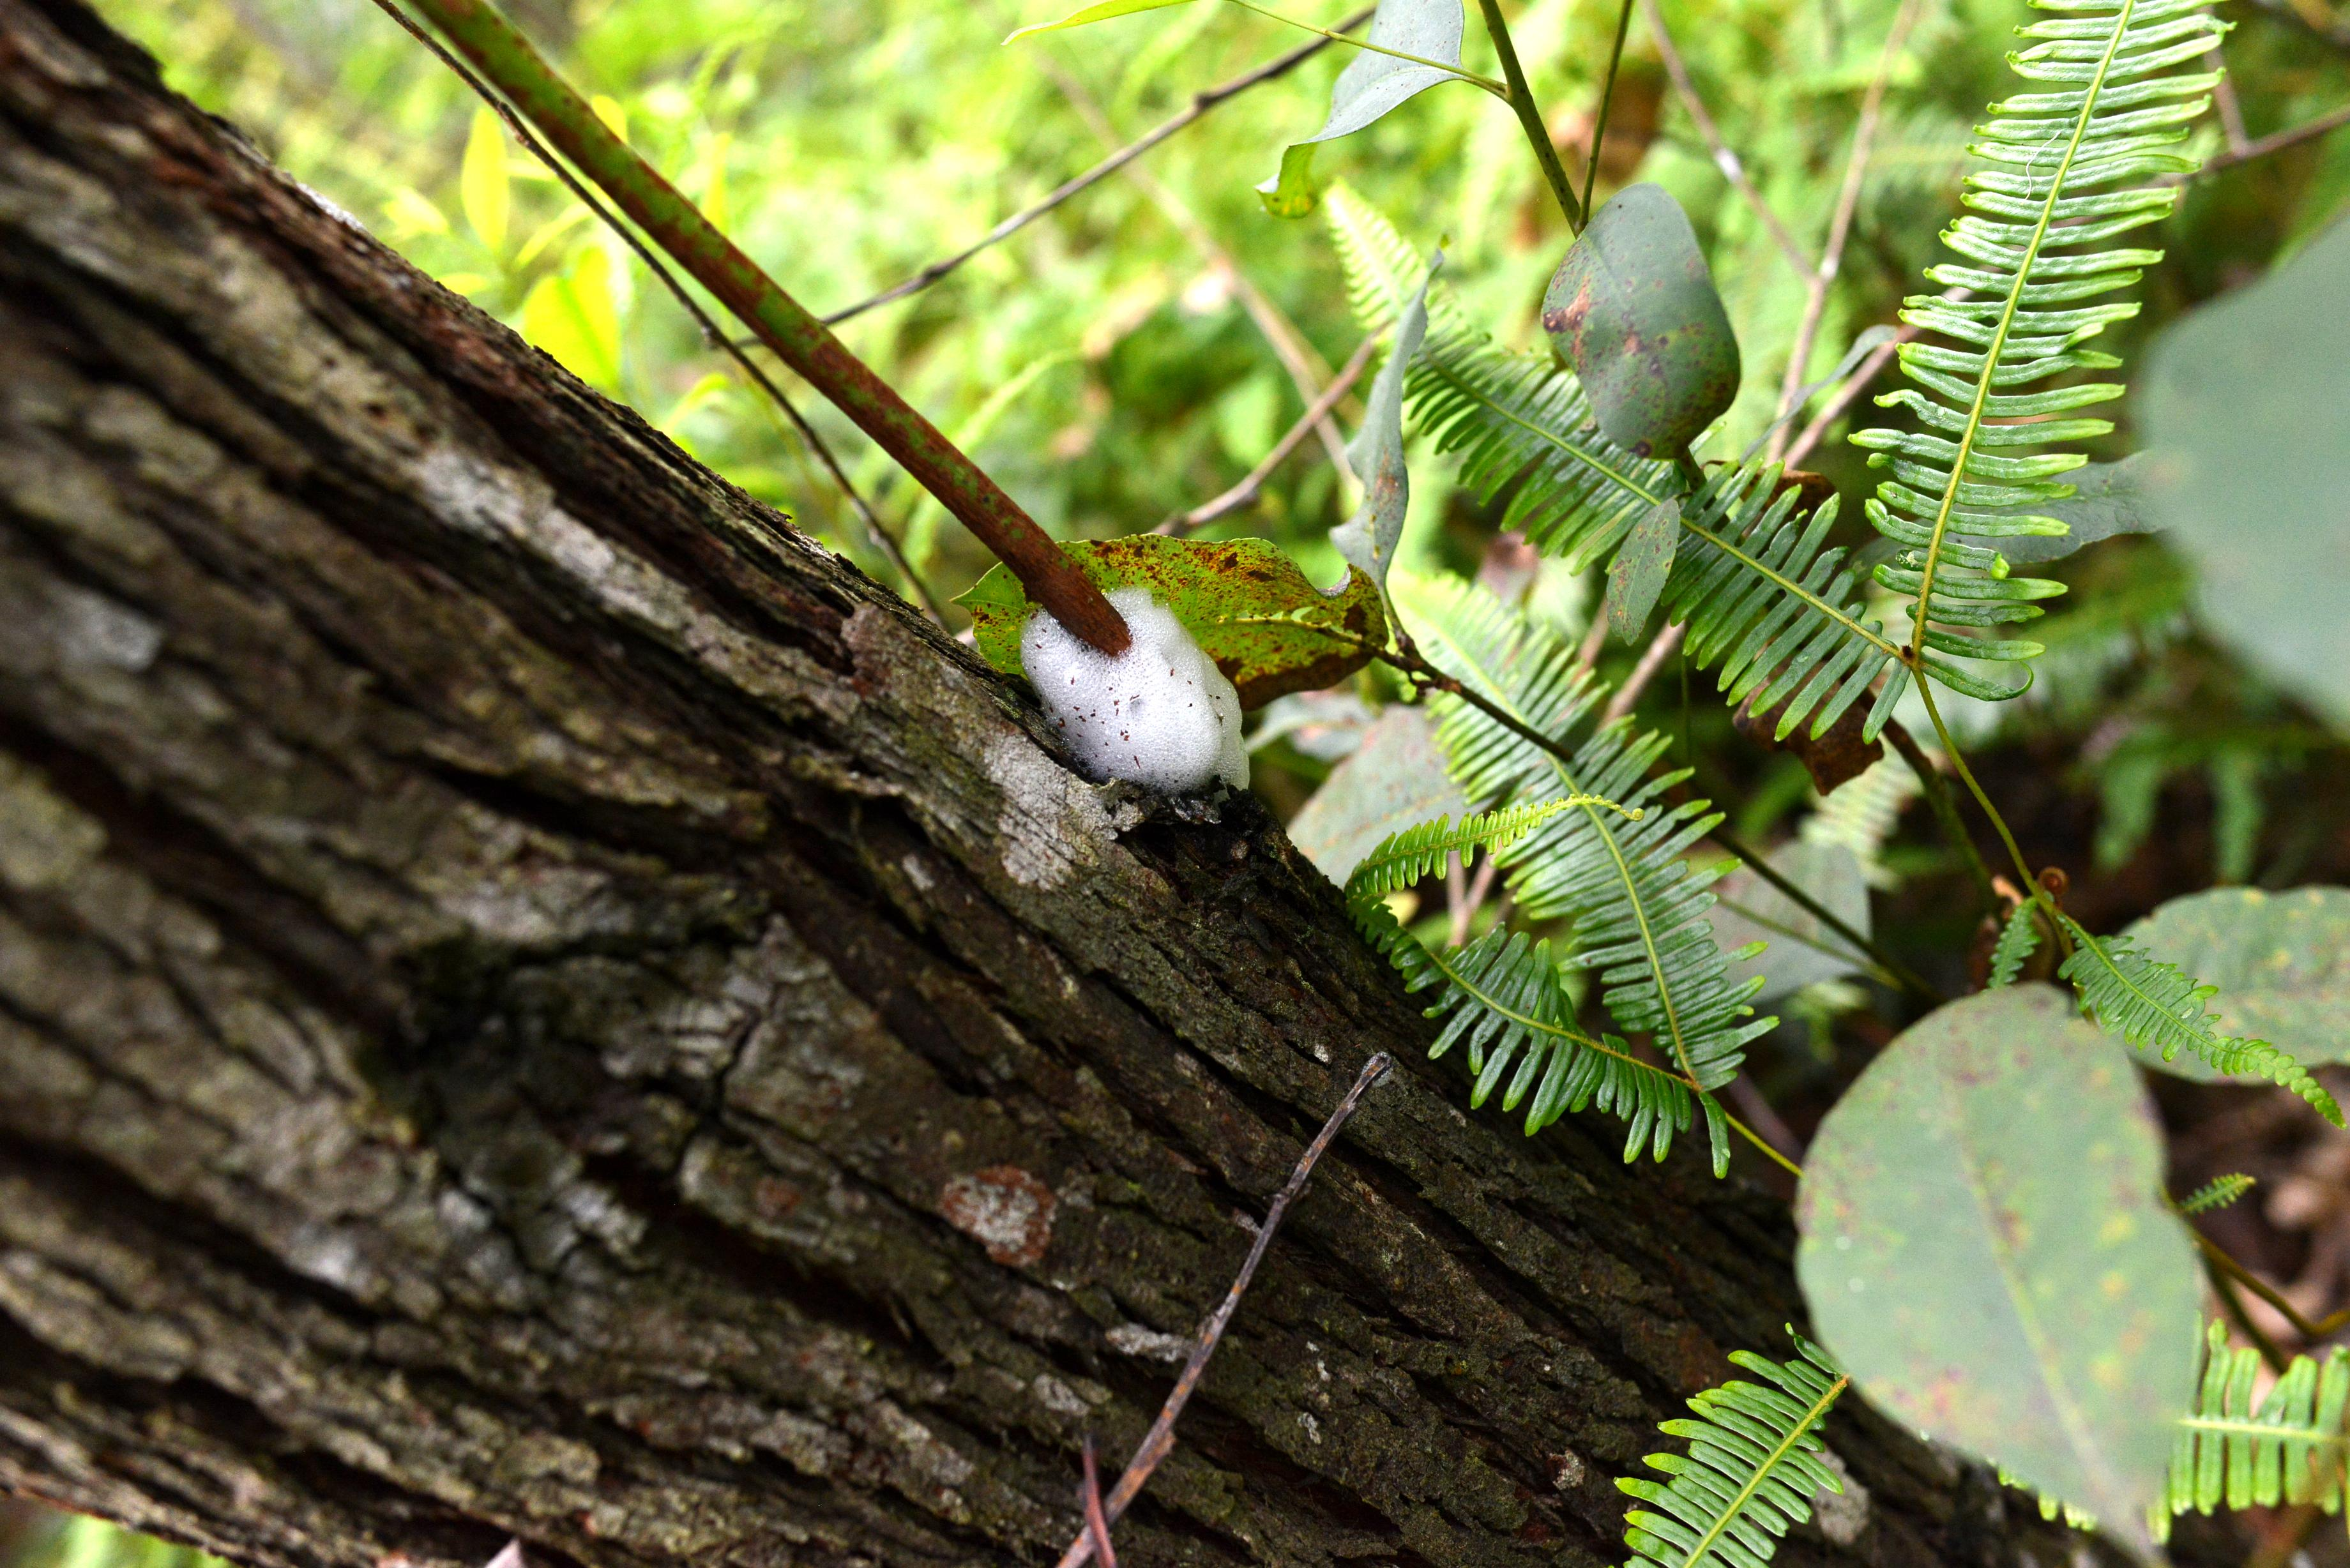Ceratocystis - Bubble: (1025, 576, 1230, 784)
